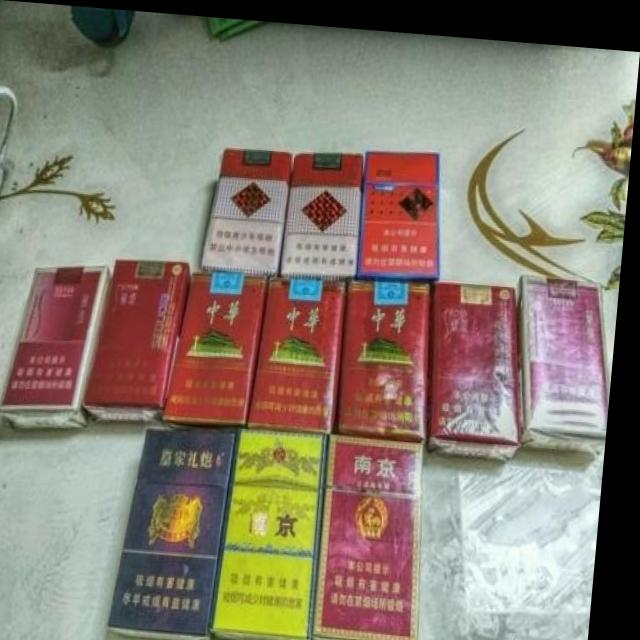box: (119, 423, 244, 640), (223, 427, 335, 640), (325, 430, 433, 640), (6, 266, 116, 432), (91, 256, 196, 420), (522, 265, 615, 445), (436, 274, 529, 452), (169, 270, 274, 423), (256, 273, 353, 428), (346, 275, 434, 434), (205, 147, 296, 272), (284, 147, 366, 272), (363, 145, 444, 268)
